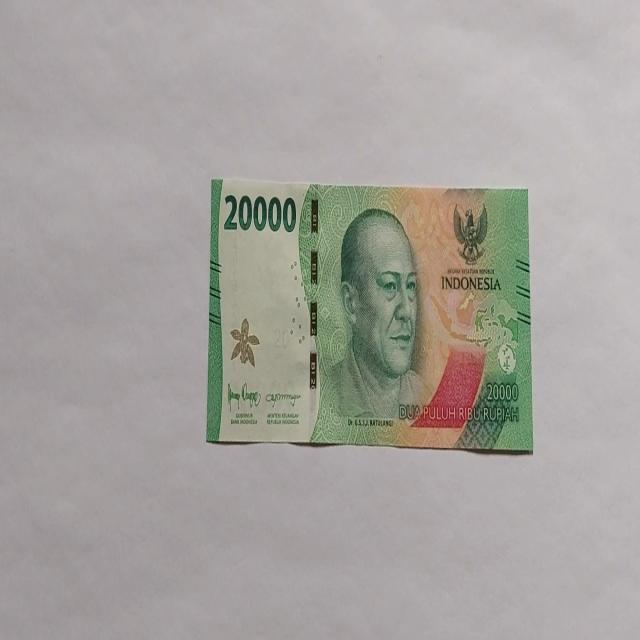dua puluh ribu rupiah: (205, 176, 532, 452), (311, 205, 433, 444)
